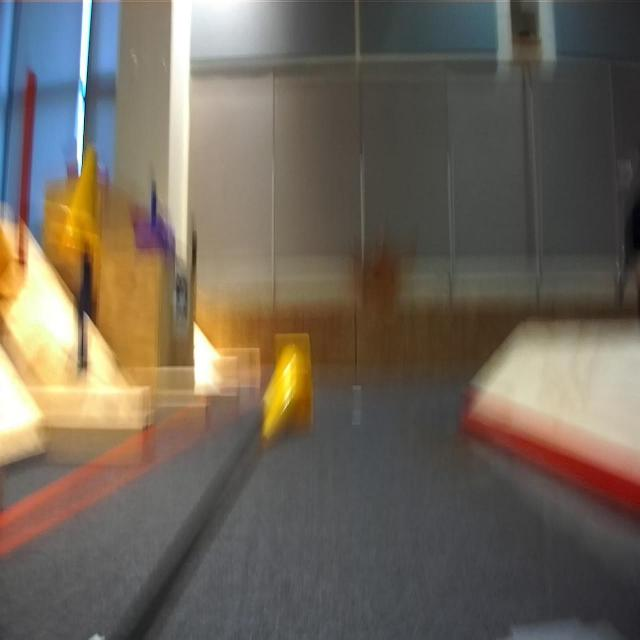frc_cone: (60, 138, 110, 260), (266, 348, 322, 430)
frc_cube: (121, 209, 163, 257)
